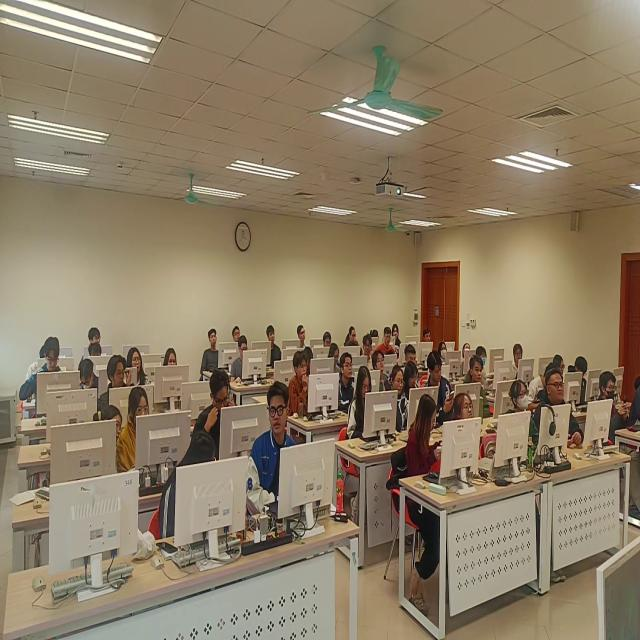raise_head: (247, 379, 300, 516), (532, 371, 586, 456), (99, 349, 133, 417), (285, 351, 315, 418), (505, 383, 533, 444), (464, 356, 491, 419), (127, 342, 152, 400), (452, 390, 475, 437), (337, 353, 357, 406), (202, 325, 225, 368), (263, 324, 284, 370), (370, 346, 388, 398), (511, 342, 526, 385), (360, 332, 375, 374), (437, 336, 451, 370), (295, 321, 309, 353), (86, 325, 105, 346), (460, 338, 473, 366), (421, 325, 433, 352), (231, 321, 243, 347), (392, 322, 402, 348)
using_computer: (115, 386, 156, 479), (19, 336, 63, 417), (196, 369, 241, 447), (348, 362, 379, 456), (384, 364, 408, 424), (525, 357, 551, 411), (570, 352, 595, 405), (26, 338, 50, 391), (231, 332, 252, 385), (76, 356, 100, 400), (159, 342, 180, 385), (377, 325, 397, 362), (632, 363, 640, 454), (547, 352, 568, 386), (474, 342, 492, 381), (327, 340, 342, 380), (344, 326, 361, 352), (319, 327, 333, 355), (89, 343, 105, 360), (370, 328, 381, 343)
using_phone: (404, 389, 445, 498), (592, 368, 631, 446), (425, 351, 458, 415), (403, 361, 425, 409)
